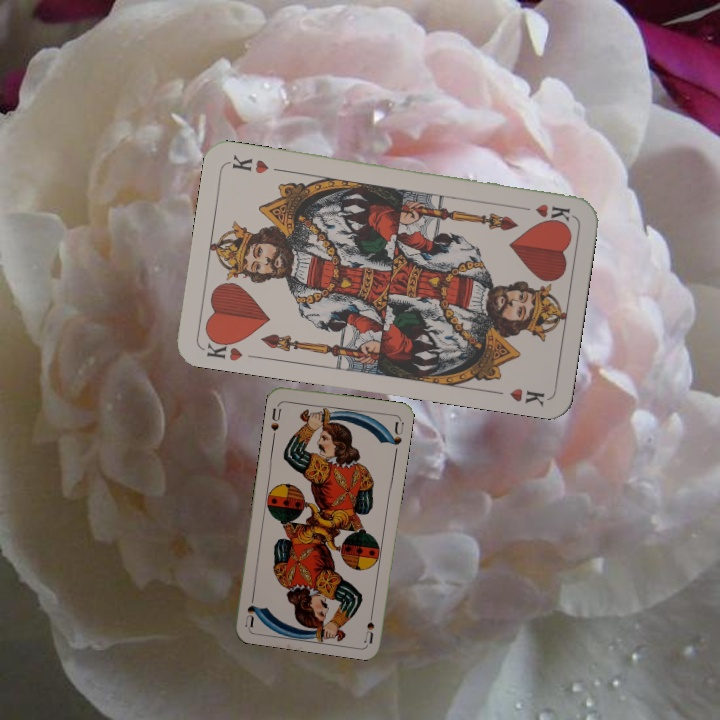HK: (514, 200, 573, 225), (202, 332, 245, 364)
SU: (266, 400, 284, 440), (360, 604, 377, 645)
